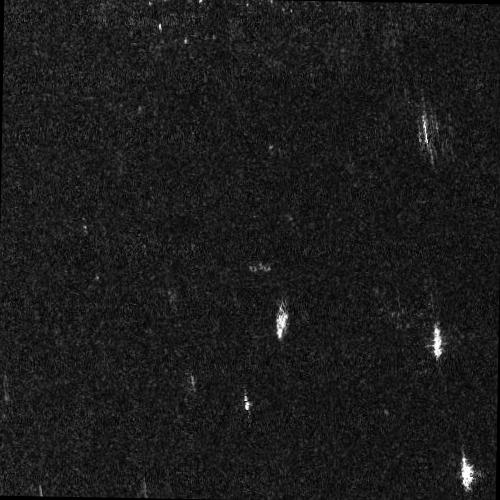ship: (459, 450, 476, 493), (275, 302, 290, 343), (433, 322, 444, 361), (242, 389, 251, 412)
